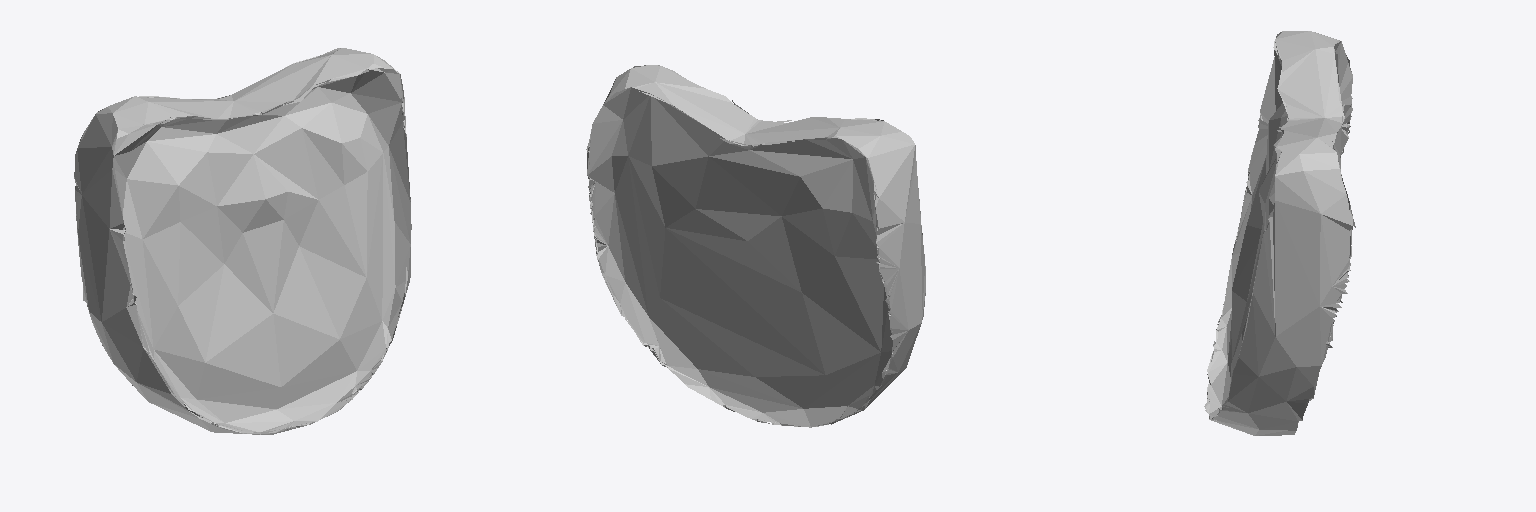
Rendered from intervertebral disk of eighth thoracic vertebra.obj.
3 renders of one model, left to right at view 1: azimuth 30°, elevation 25°; view 2: azimuth 150°, elevation 25°; view 3: azimuth 270°, elevation 25°, orthographic.
Parts seen in each view (by area): view 1: grp1; view 2: grp1; view 3: grp1.
Part boxes in pixels (bbox=[...]): grp1: bbox=[74, 48, 411, 434]; grp1: bbox=[586, 65, 925, 427]; grp1: bbox=[1204, 31, 1355, 435].
Bounding box in the file's own units: 35.41 × 35.81 × 15.03.